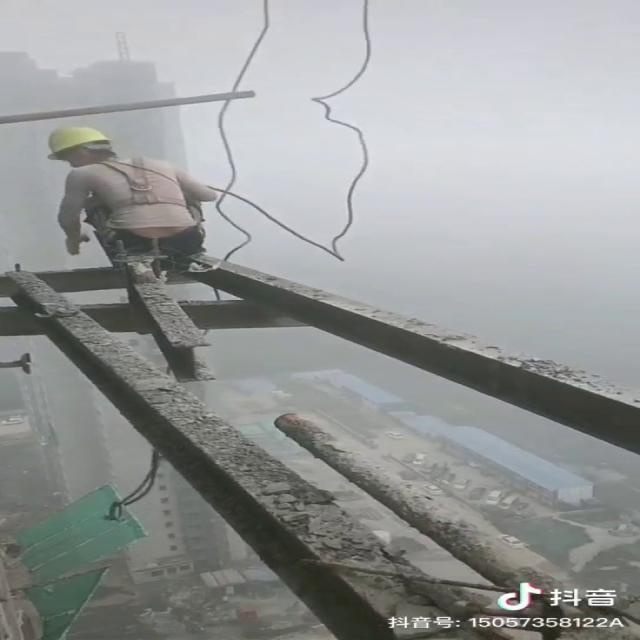Arnes_seguridad: (60, 153, 194, 224)
